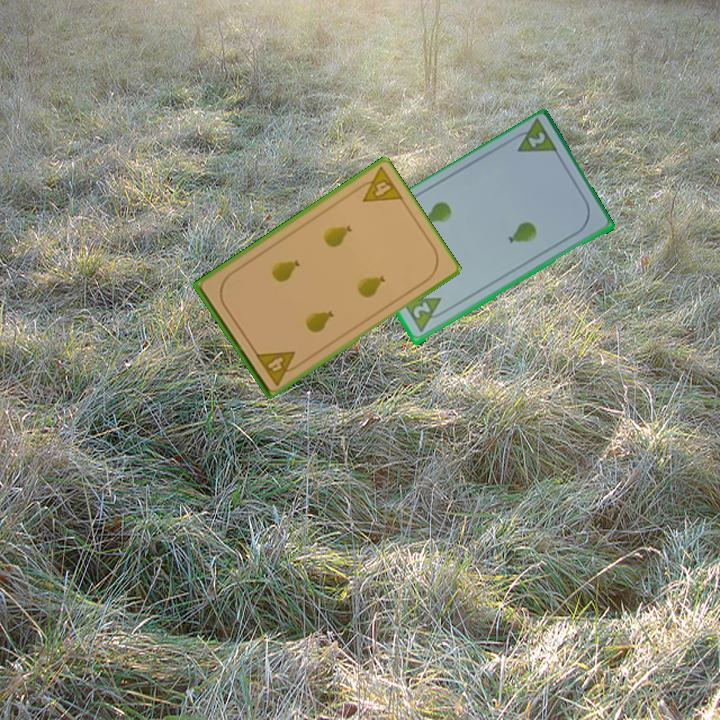2p: (409, 299, 434, 322), (524, 129, 548, 151)
4p: (350, 163, 405, 205), (252, 347, 304, 388)
